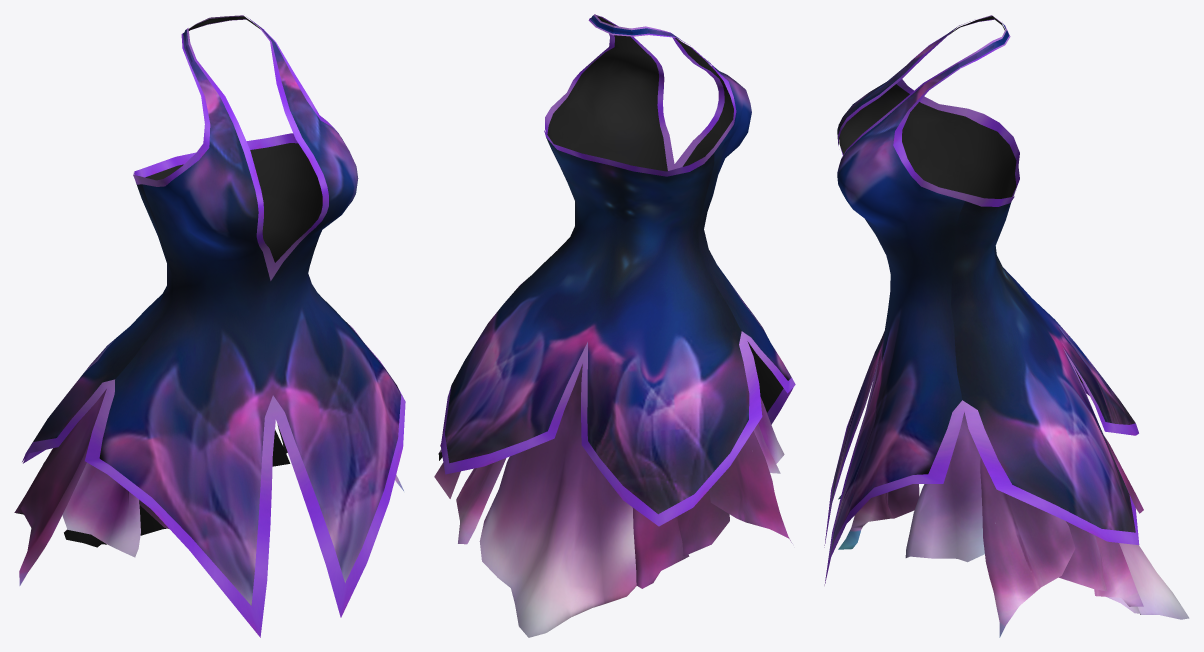
The model's file is dress.glb.
The picture shows the model from 3 angles, left to right: view 1: azimuth 30°, elevation 25°; view 2: azimuth 150°, elevation 25°; view 3: azimuth 270°, elevation 25°; orthographic projection. The views are drawn at different scales.
Visible parts, largest first — view 1: HS_Dress_01; view 2: HS_Dress_01; view 3: HS_Dress_01.
Boxes of the visible parts, <box> form: HS_Dress_01: <box>14,15,405,637</box>; HS_Dress_01: <box>434,14,795,637</box>; HS_Dress_01: <box>824,15,1189,637</box>.
Size of the model in its own units: 399 by 590 by 331.
Materials: 1 (1 with a texture image).
